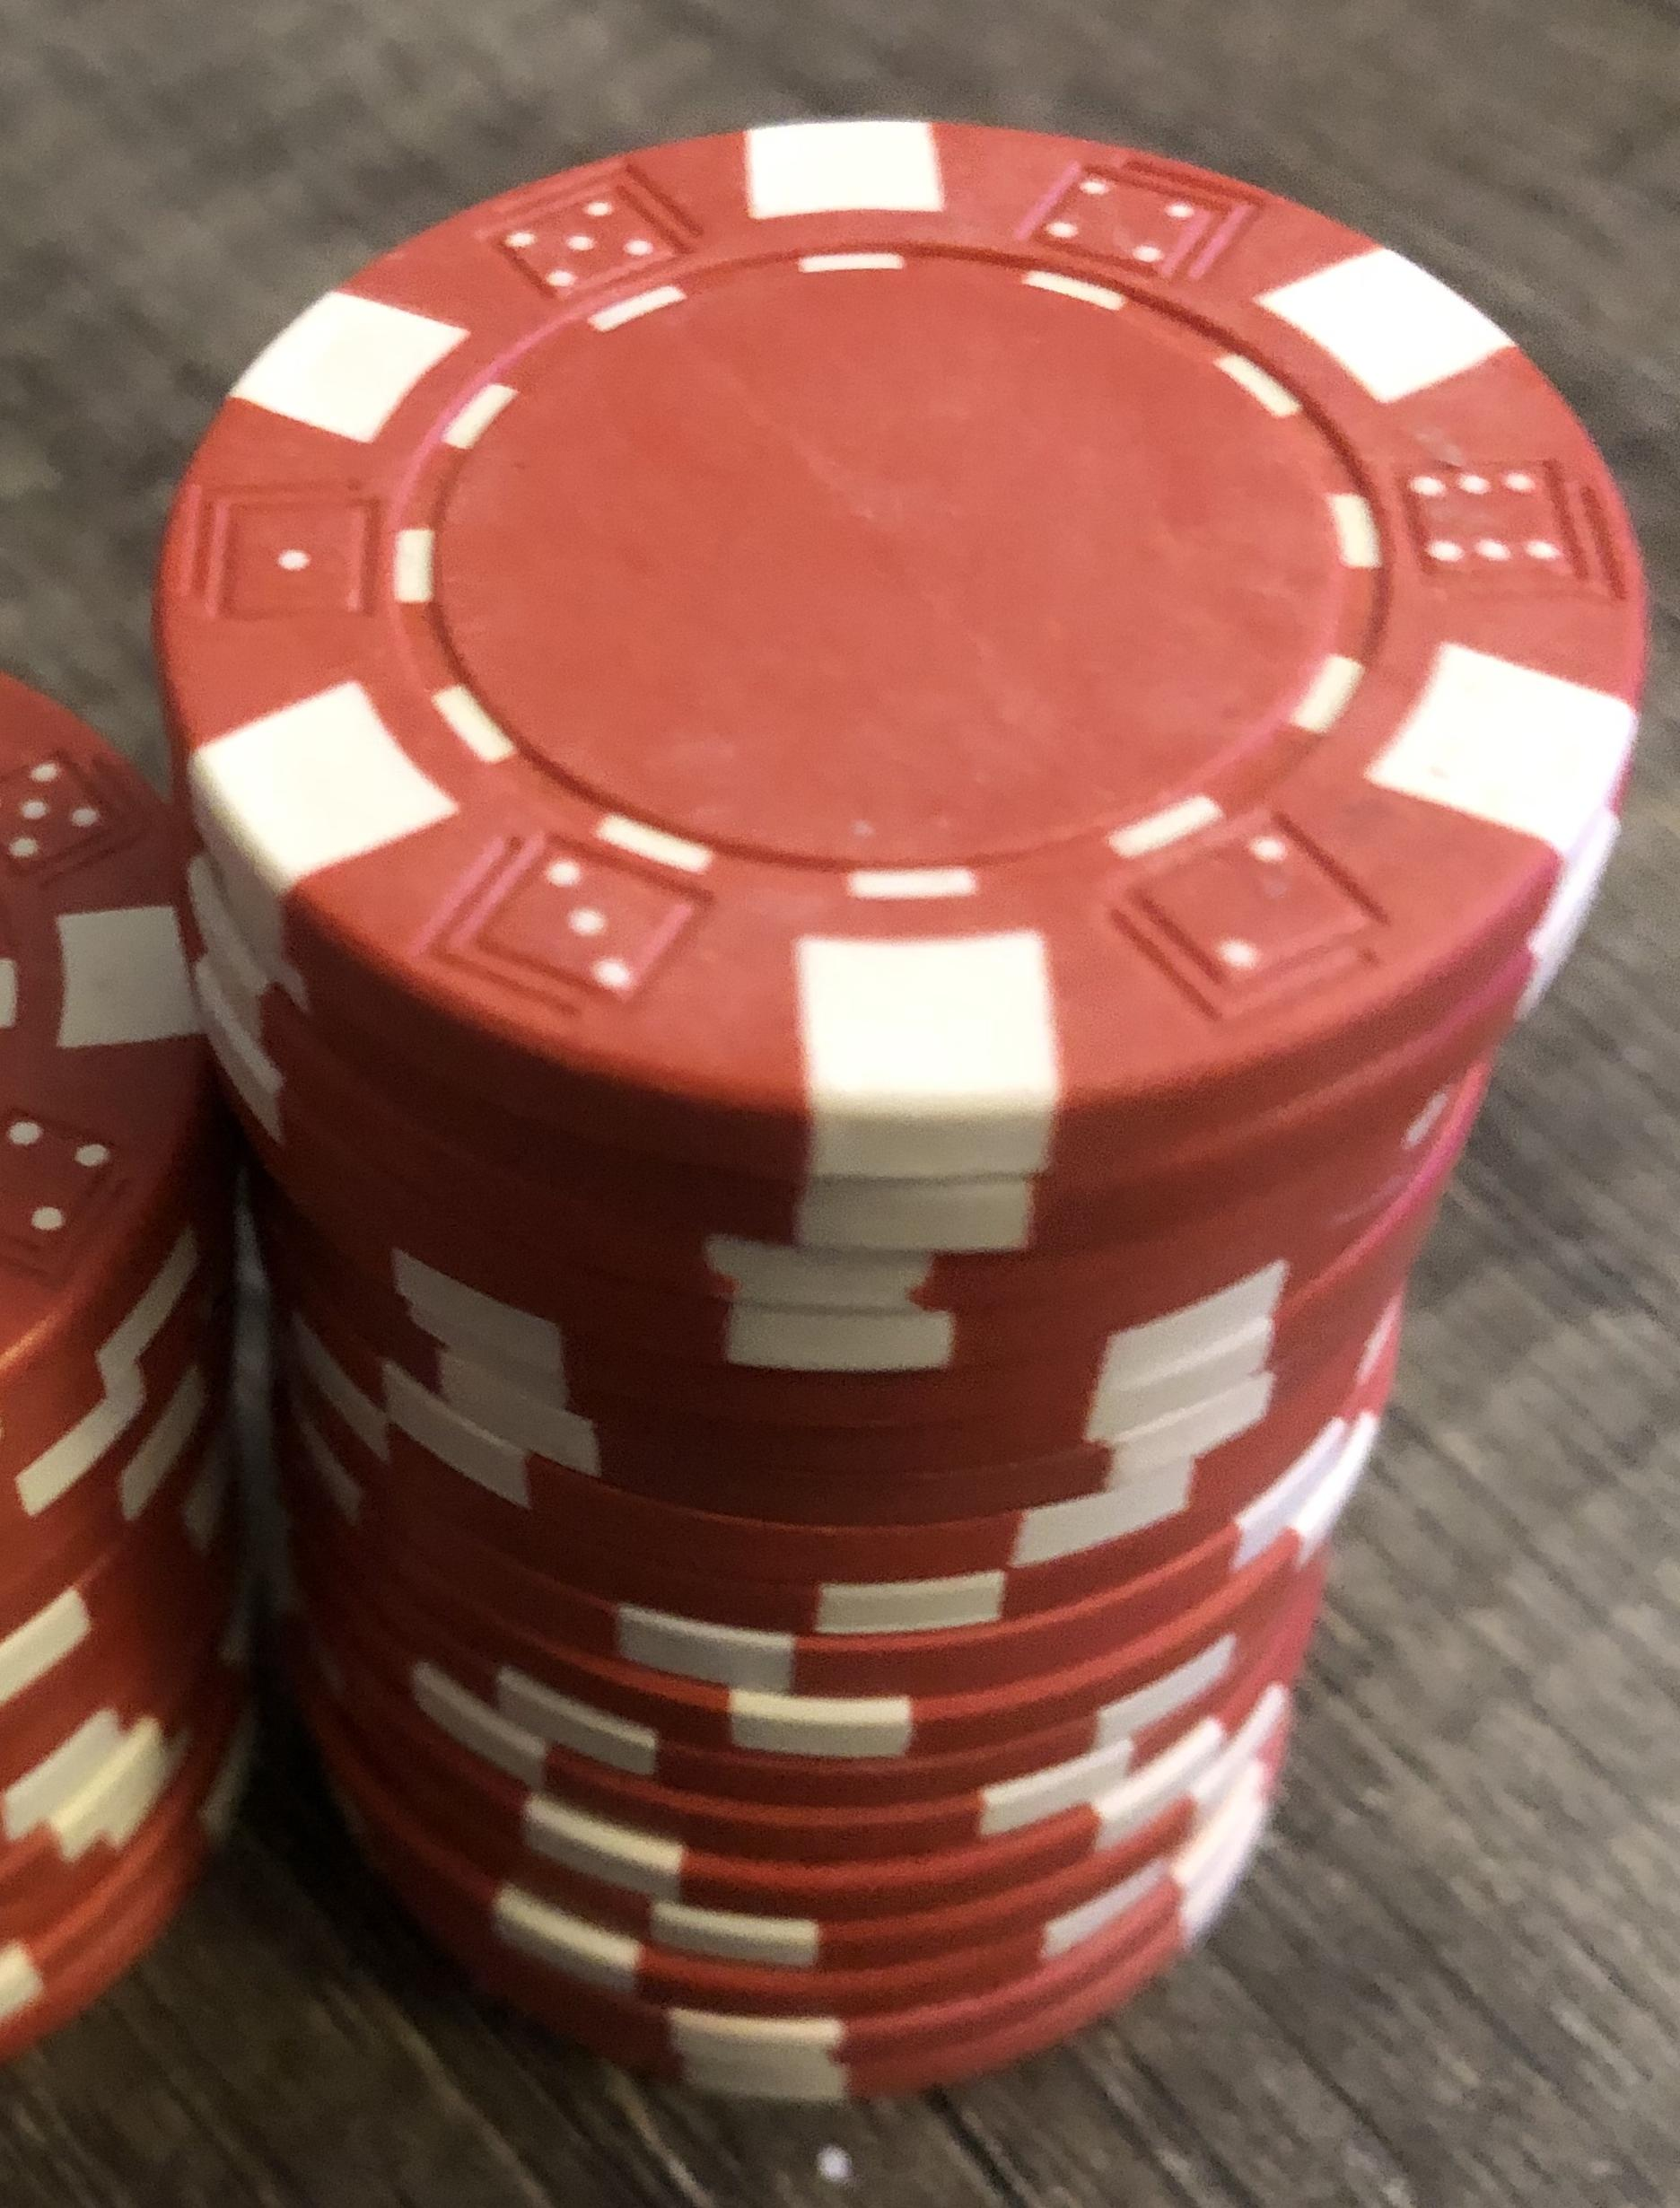Chip: (2, 2, 1680, 2208)
